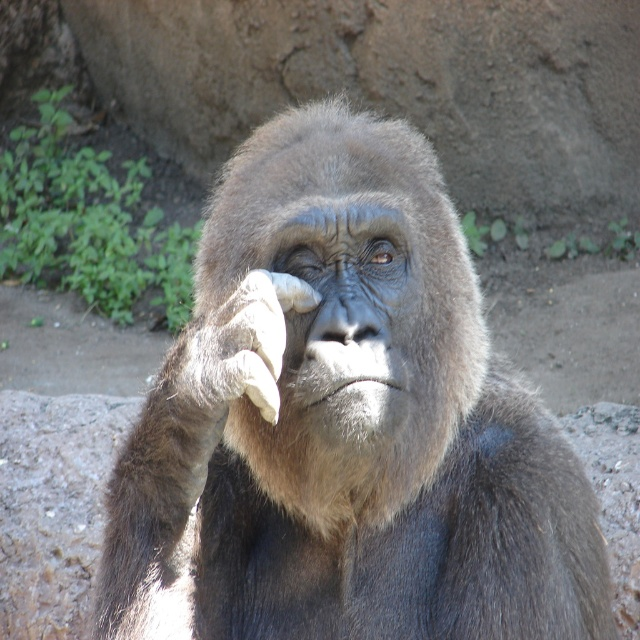Monkey: (75, 99, 639, 632)
